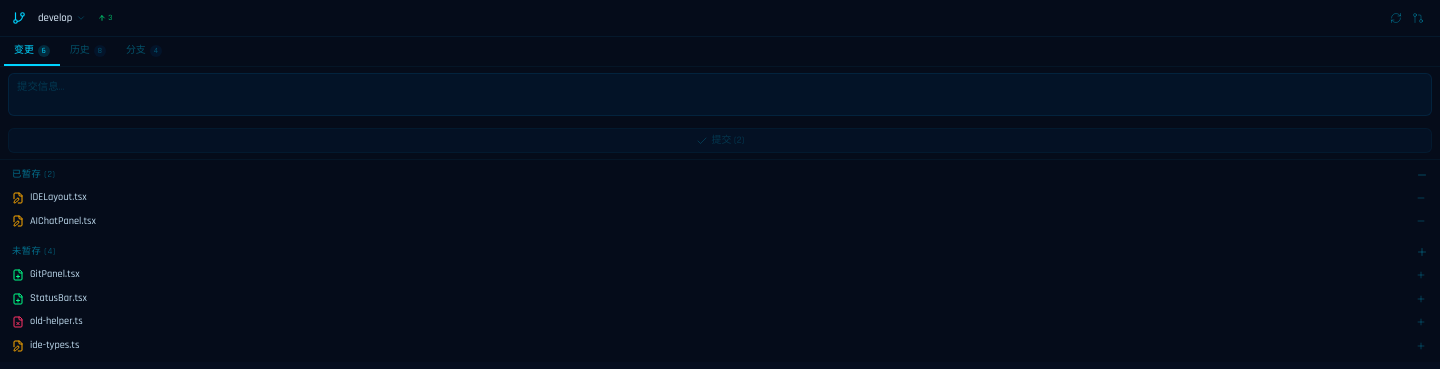
it: GitPanel › 分支选择器 › 点击分支名应打开下拉, 选择后关闭
The image size is (1440, 369).
Click the button "develop": coordinates (62, 18) 32,8 -> 92,28
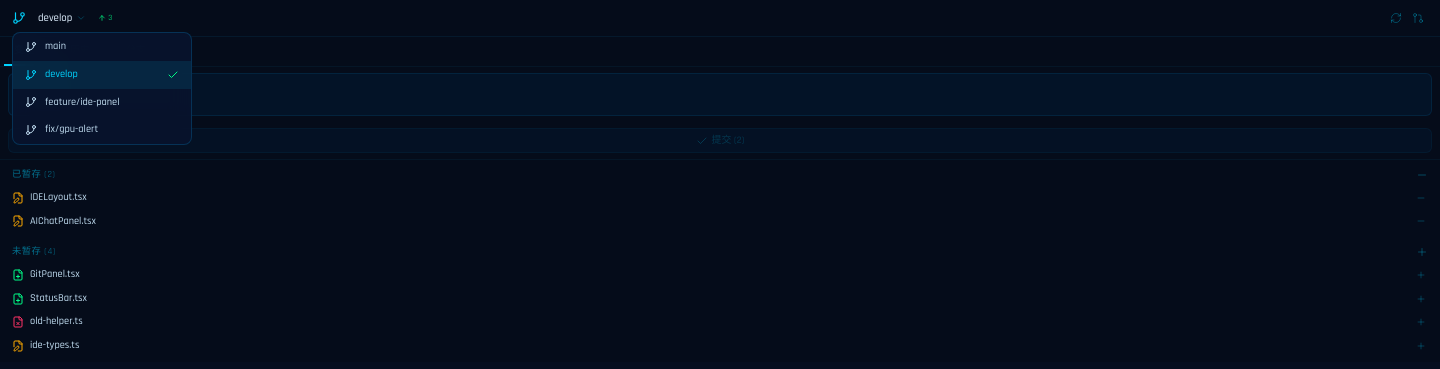
Expected: the text "feature/ide-panel" is shown, 45,94 -> 120,108
Expected: the text "fix/gpu-alert" is shown, 45,122 -> 98,136
Click the button "main": coordinates (102, 47) 13,33 -> 191,61
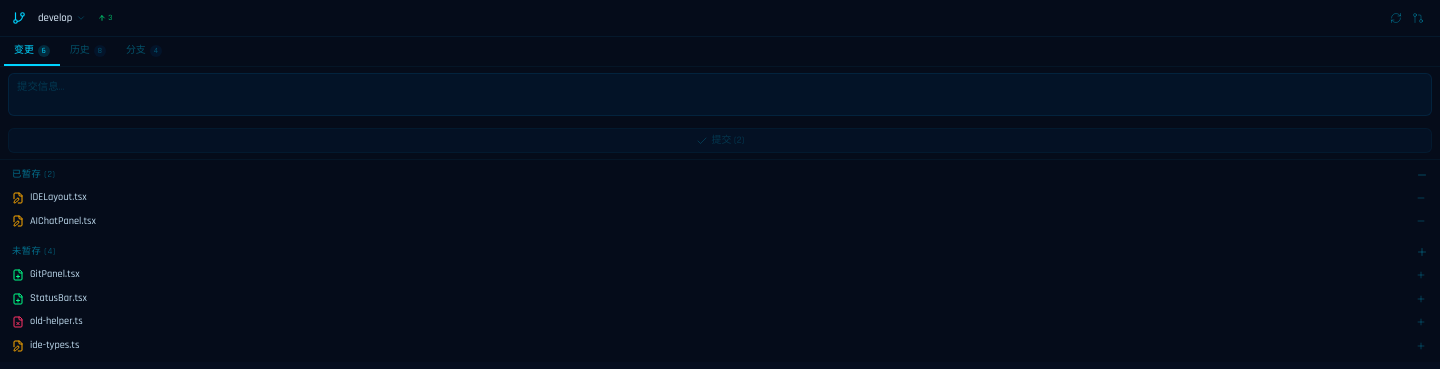
Expected: the button "fix/gpu-alert" is gone
